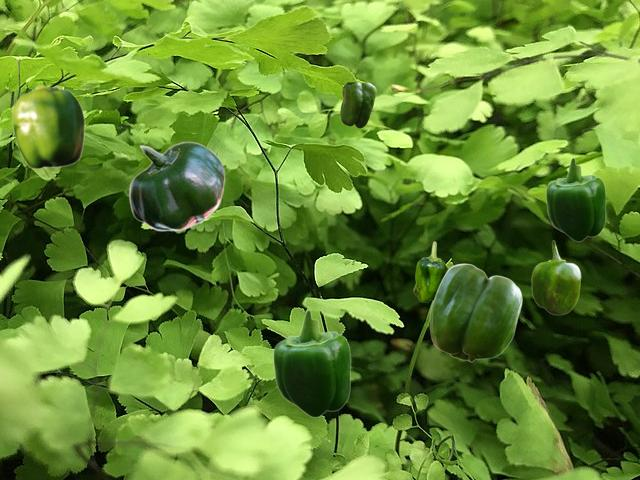bell_pepper: (429, 263, 521, 361), (128, 141, 224, 230), (272, 309, 350, 417), (11, 84, 84, 168), (545, 157, 605, 241), (531, 240, 580, 314), (413, 241, 447, 301), (340, 81, 375, 127)
